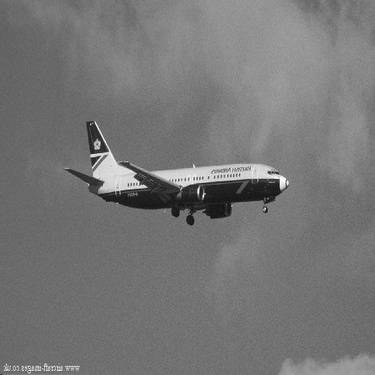airplane: (48, 110, 306, 230)
